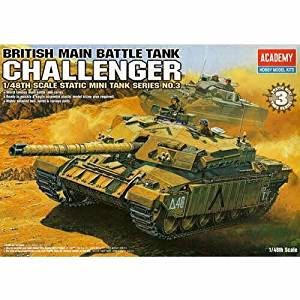Battle Tank: (26, 111, 289, 231)
